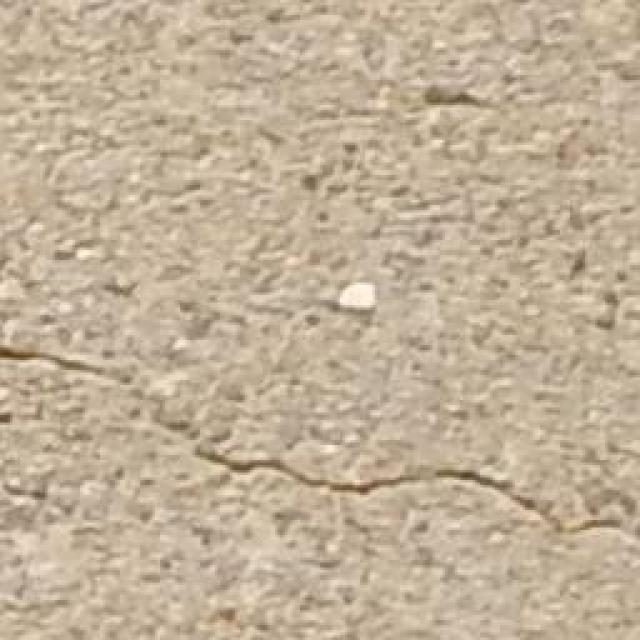concrete-crack: (1, 341, 640, 542)
